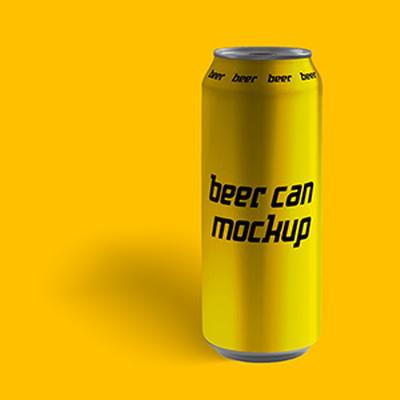beer: (199, 48, 325, 362)
